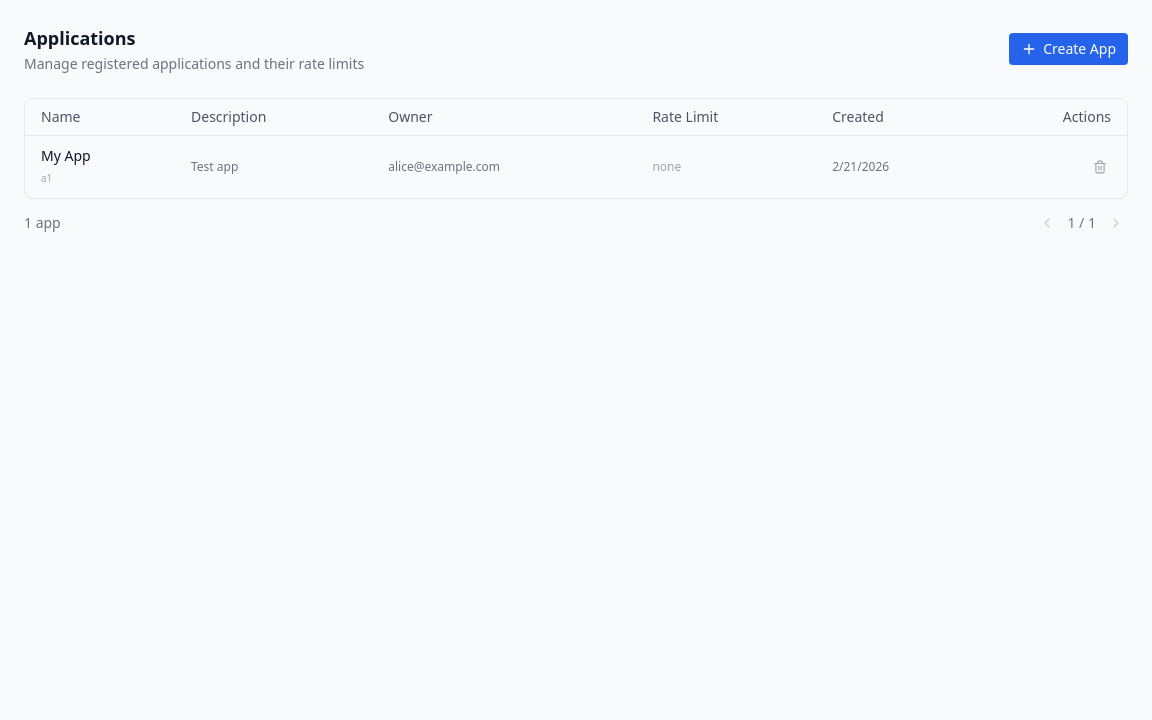
Test: Apps › delete button opens confirmation dialog
The image size is (1152, 720).
Expected: the text "My App" is shown, [41,146,91,165]
Click the button titled "Delete app".
click(1100, 167)  # box [1089,156,1111,178]
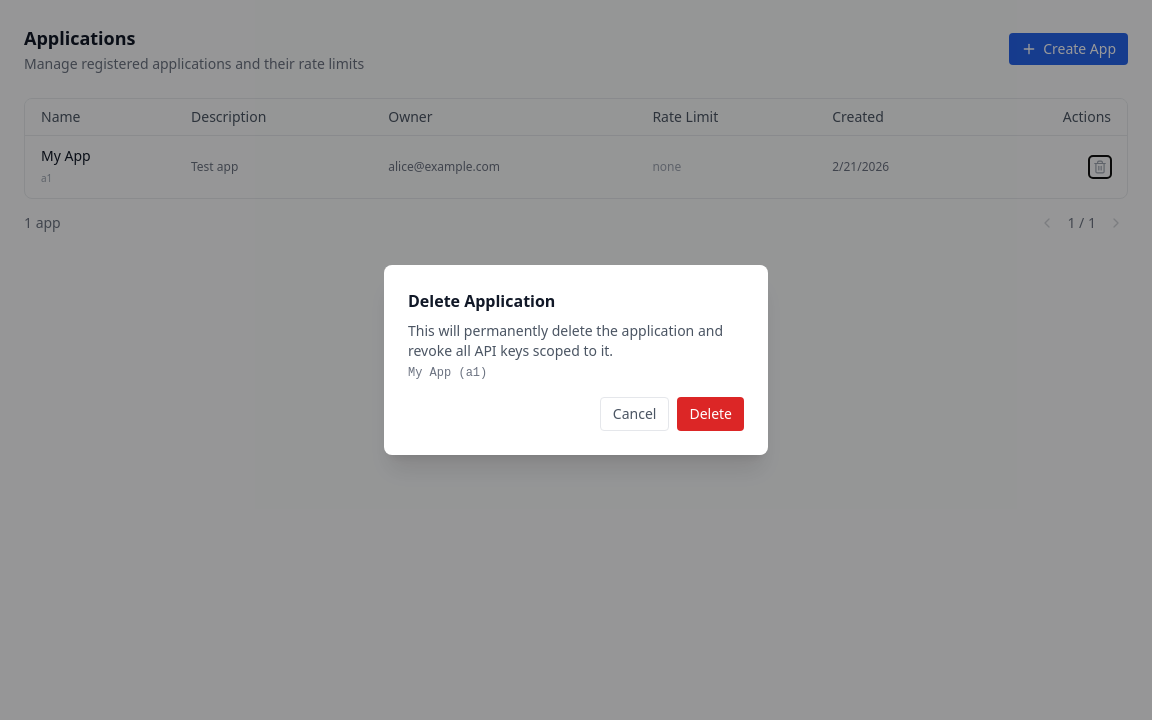
Now the heading "Delete Application" is shown, box [408,290,555,312]
Now the text "This will permanently delete the application" is shown, box [408,321,723,360]
